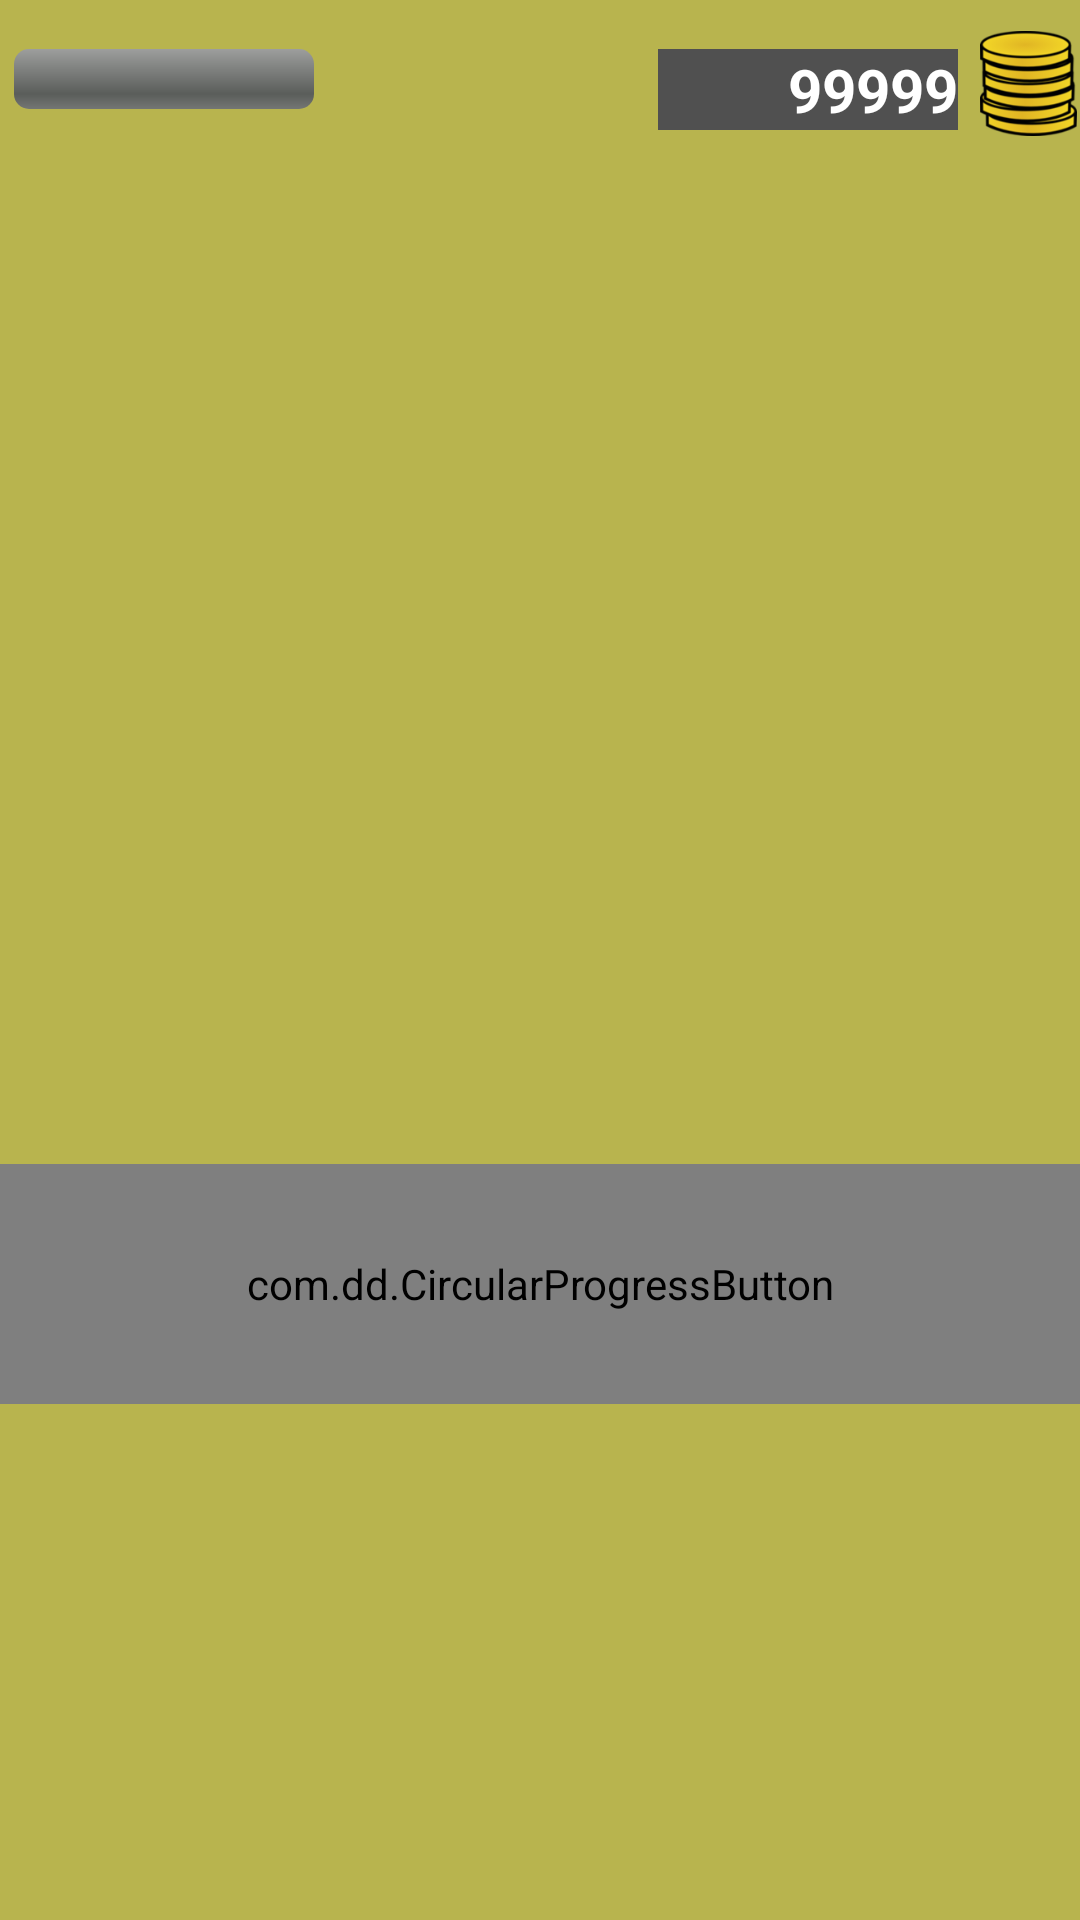

Point at icon controls on the screen. Image size 1080 x 1920, points as [x,y].
coinstack: [1028,83]
